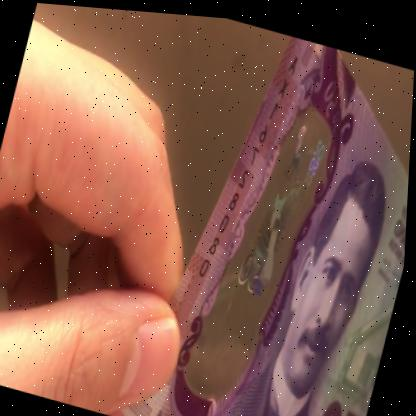50F: (217, 103, 332, 374)
